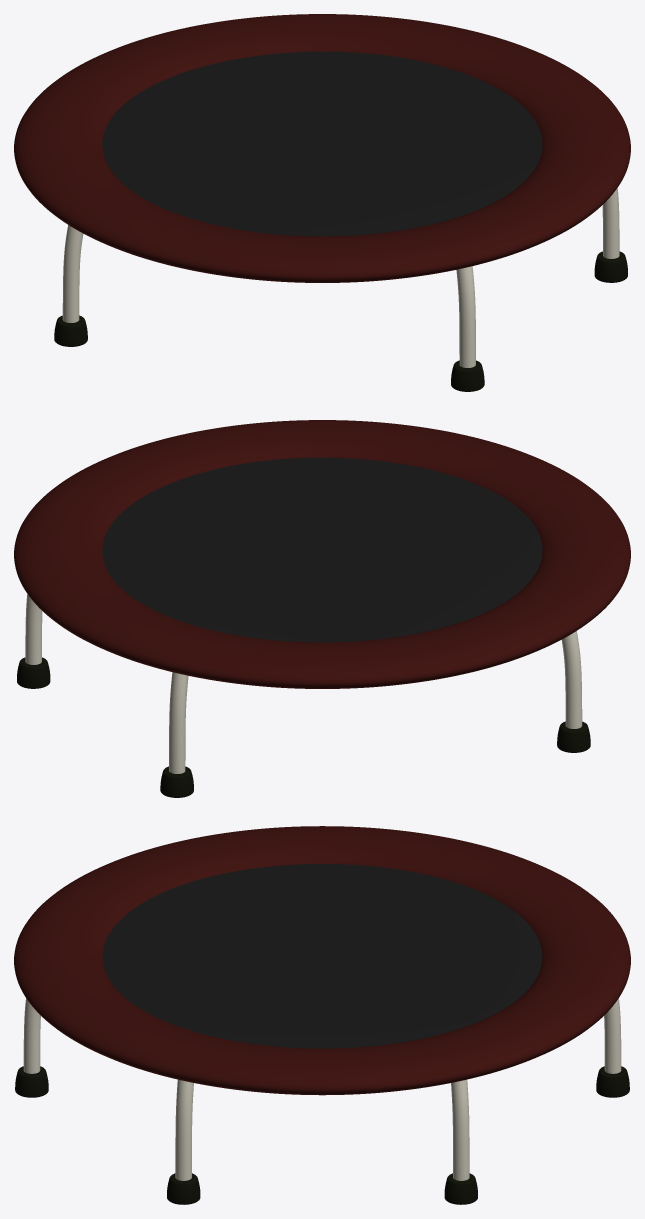
File: Trampoline.fbx
3 renders of one model, top to bottom at view 1: azimuth 30°, elevation 25°; view 2: azimuth 150°, elevation 25°; view 3: azimuth 270°, elevation 25°, orthographic.
Visible parts, largest first — view 1: Circle; view 2: Circle; view 3: Circle.
Boxes of the visible parts, <box> form: Circle: <box>14,14,630,391</box>; Circle: <box>14,420,630,797</box>; Circle: <box>14,826,630,1204</box>.
Bounding box in the file's own units: 353 × 90.83 × 353.
